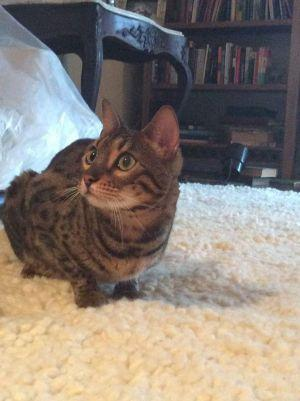bengal: (71, 89, 191, 217)
